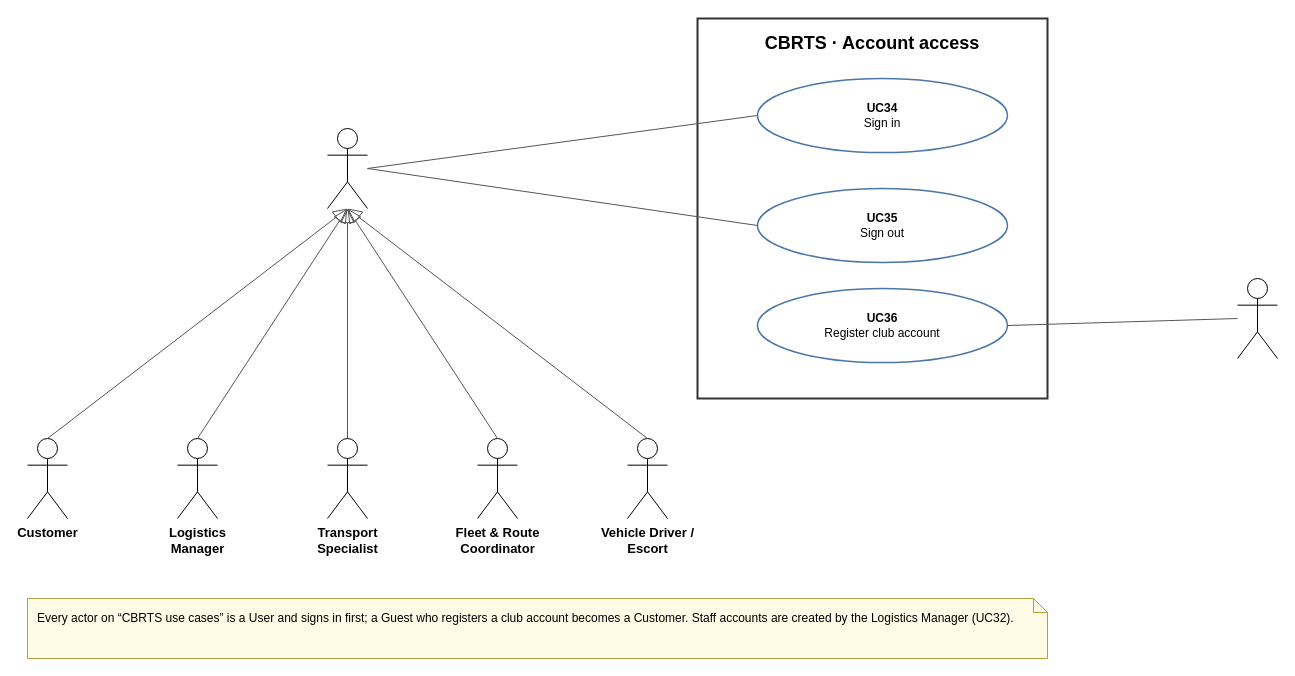
Some shapes in this 1295 by 676 pixel diagram are drawn without their labels. The shapes that lost their labels are listed below. From the top down, each one's centre as x and y in pixels, then its label:
At point (347, 168): "User (abstract)".
At point (1257, 318): "Guest".
